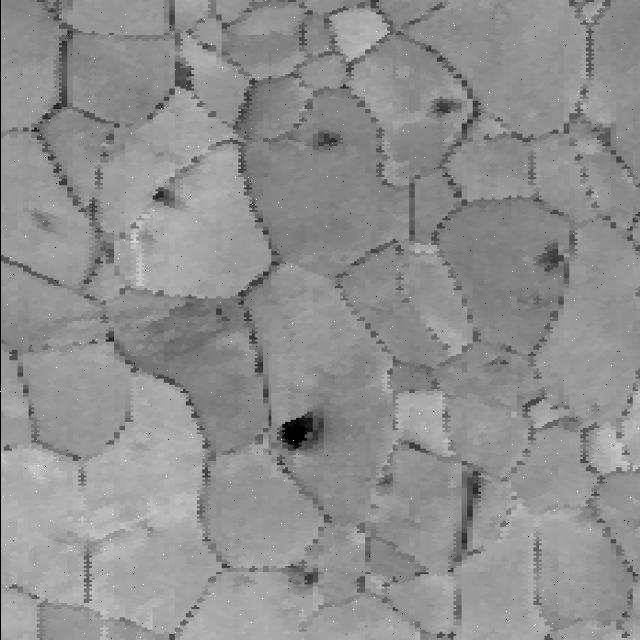good_void: (146, 298, 235, 349), (268, 405, 328, 462), (456, 464, 487, 513), (154, 64, 206, 93), (531, 234, 563, 278), (420, 90, 465, 117), (146, 182, 184, 213), (303, 124, 347, 150), (23, 207, 61, 236), (274, 557, 316, 580), (482, 358, 509, 368)
